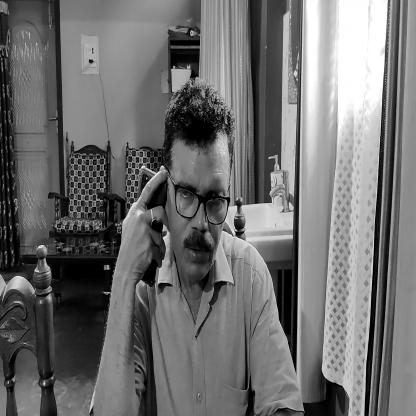Normal: (161, 63, 231, 282)
